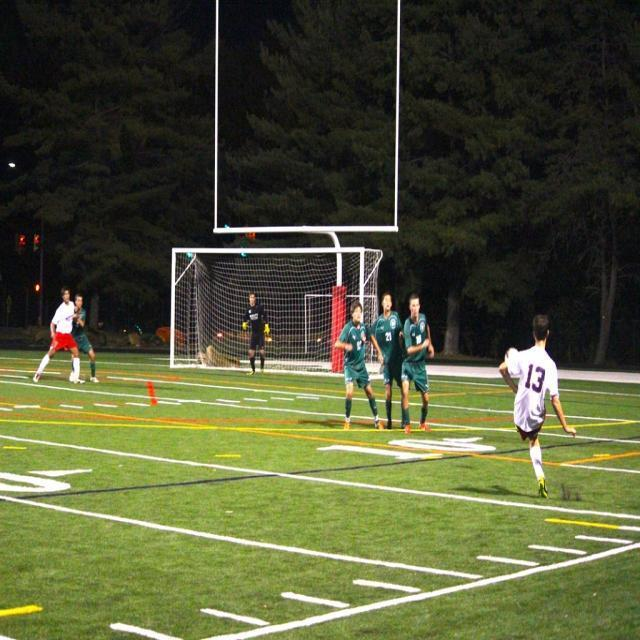ball: (504, 347, 517, 362)
